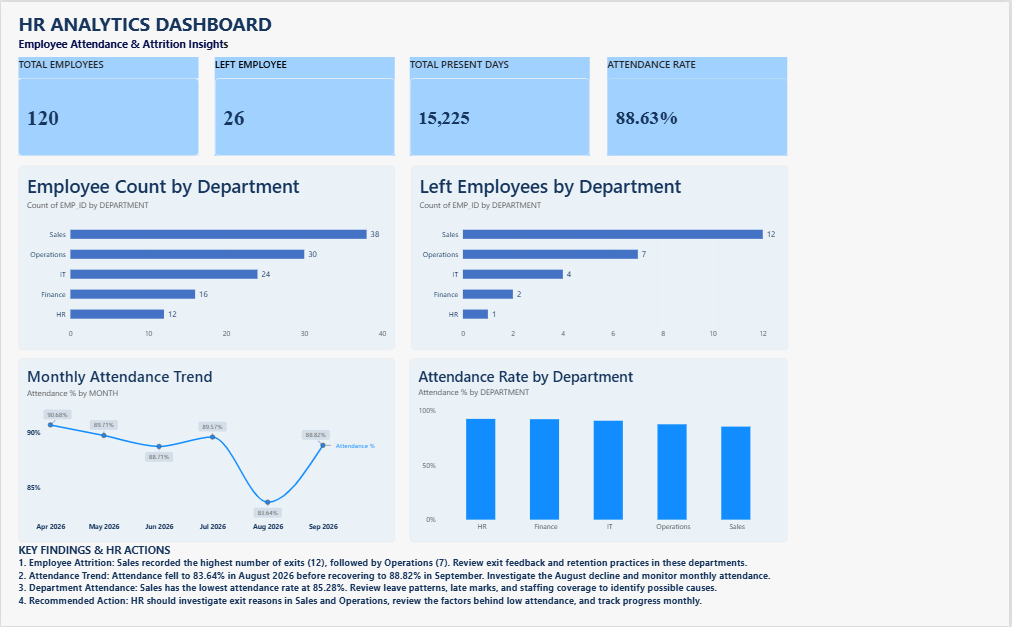

Layout of this report page (visuals, bound fields, positions):
{"tool":"powerbi","page":{"name":"Page 1","canvas":[2019,1250],"ordinal":0},"visuals":[{"type":"cardVisual","title":"TOTAL EMPLOYEES","fields":{"Data":["Count(employees.EMP_ID)"]},"box":[36.2,110.8,360.2,197.6],"z":0},{"type":"cardVisual","title":"LEFT EMPLOYEE","fields":{"Data":["CountNonNull(employees.STATUS)"]},"box":[428.2,110.8,360,197.6],"z":1000},{"type":"cardVisual","title":"TOTAL PRESENT DAYS ","fields":{"Data":["attendance.Total Present Days"]},"box":[818,110.8,360,197.6],"z":2000},{"type":"cardVisual","title":"ATTENDANCE RATE","fields":{"Data":["attendance.Attendance %"]},"box":[1212.1,110.8,360,197.6],"z":3000},{"type":"clusteredBarChart","title":"Employee Count by Department","fields":{"Category":["employees.DEPARTMENT"],"Y":["CountNonNull(employees.EMP_ID)"]},"box":[36.2,328.1,752.6,367.8],"z":4000},{"type":"clusteredBarChart","title":"Left Employees by Department","fields":{"Category":["employees.DEPARTMENT"],"Y":["CountNonNull(employees.EMP_ID)"]},"box":[820.1,328.1,754.7,367.8],"z":5000},{"type":"lineChart","title":"Monthly Attendance Trend","fields":{"Category":["attendance.MONTH"],"Y":["attendance.Attendance %"]},"box":[36.2,711.5,753,368],"z":5001},{"type":"clusteredColumnChart","title":"Attendance Rate by Department","fields":{"Category":["employees.DEPARTMENT"],"Y":["attendance.Attendance %"]},"box":[818,713.6,755,368],"z":5002},{"type":"textbox","box":[36.2,0,752,110.8],"z":5003},{"type":"textbox","box":[36.2,1080,1538,153.4],"z":5004}]}

Visuals, with their boxes in screenshot pixels (x1, y1, x2, y2), scaled from the page's 2019x1250 canvas onto the 1012x627 screenshot:
"TOTAL EMPLOYEES" cardVisual: <box>18,56,199,155</box>
"LEFT EMPLOYEE" cardVisual: <box>215,56,395,155</box>
"TOTAL PRESENT DAYS " cardVisual: <box>410,56,590,155</box>
"ATTENDANCE RATE" cardVisual: <box>608,56,788,155</box>
"Employee Count by Department" clusteredBarChart: <box>18,165,395,349</box>
"Left Employees by Department" clusteredBarChart: <box>411,165,789,349</box>
"Monthly Attendance Trend" lineChart: <box>18,357,396,541</box>
"Attendance Rate by Department" clusteredColumnChart: <box>410,358,788,543</box>
textbox: <box>18,0,395,56</box>
textbox: <box>18,542,789,619</box>
